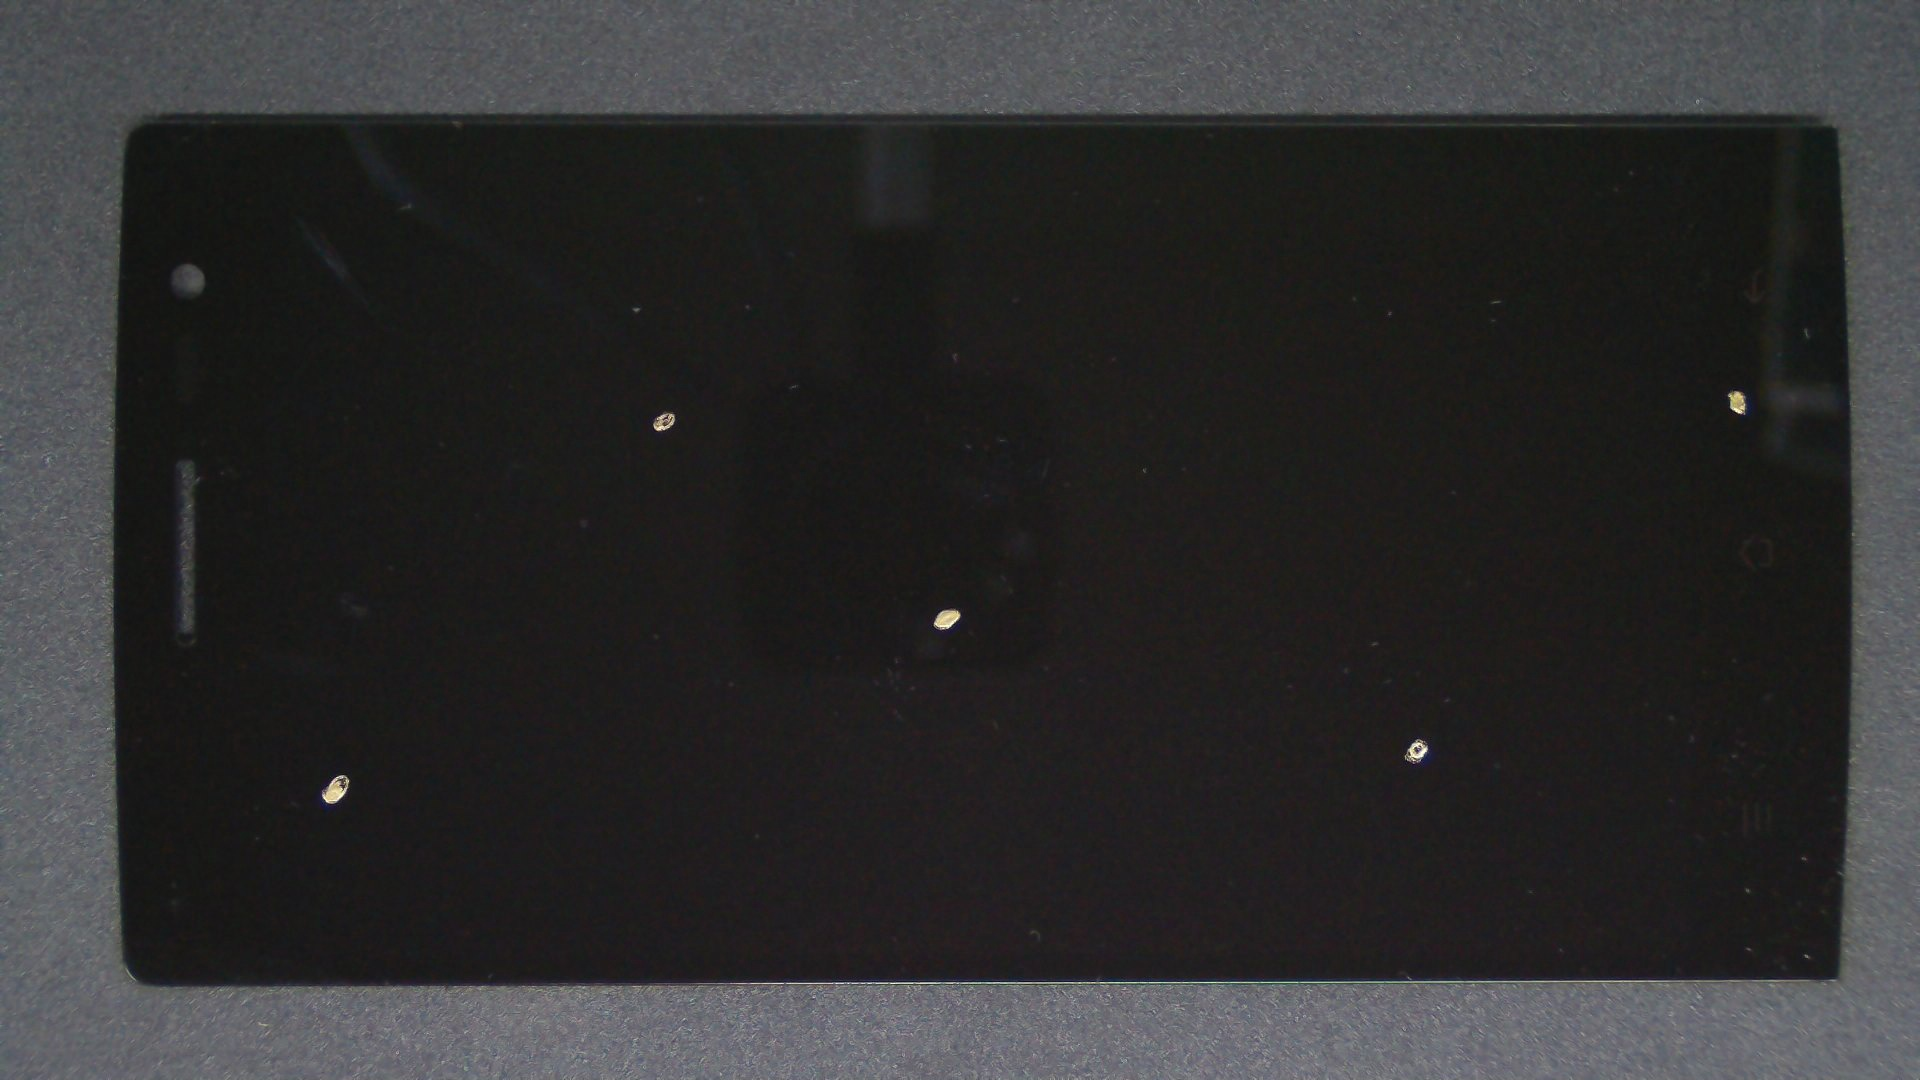oil: (709, 368, 1920, 1080), (476, 303, 1425, 911), (866, 194, 1920, 584), (334, 203, 994, 617), (171, 386, 514, 1080)
